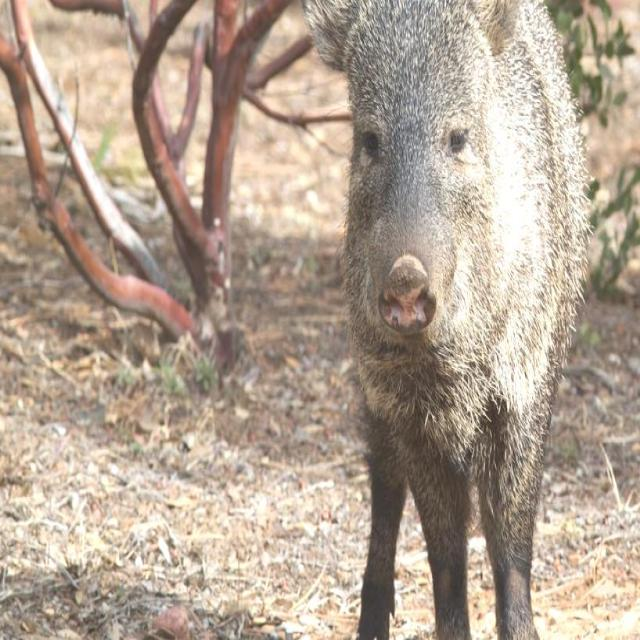pig: (306, 2, 589, 639)
